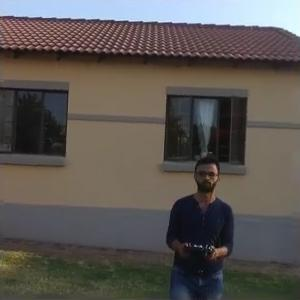follow: (161, 152, 239, 298)
